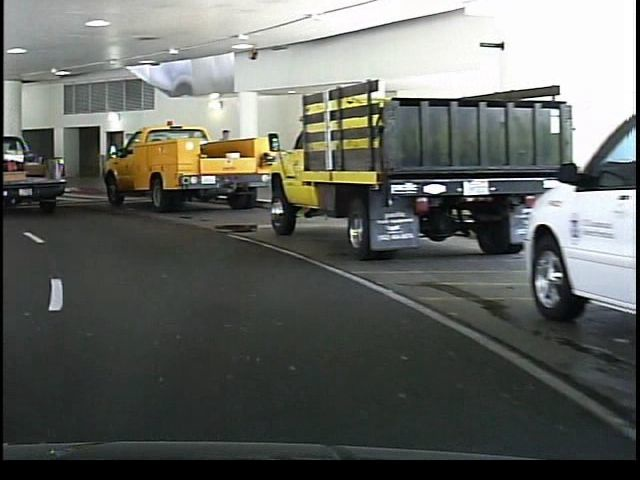person: (212, 124, 235, 197)
